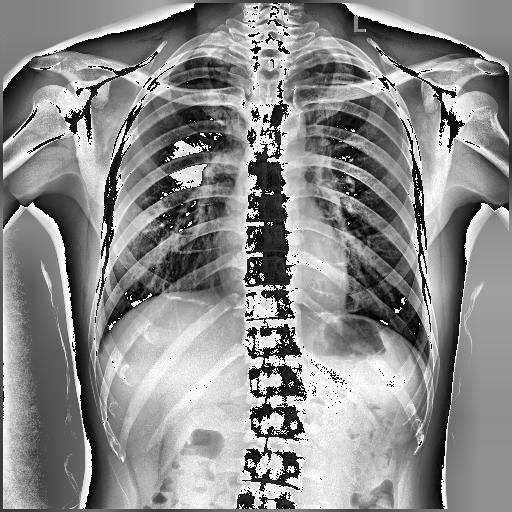11- Pleural thickening: (158, 47, 256, 81), (290, 48, 374, 73)
13- Pulmonary fibrosis: (203, 52, 229, 96), (318, 54, 331, 105), (317, 62, 332, 72)
7- Lung Opacity: (317, 62, 332, 72)
